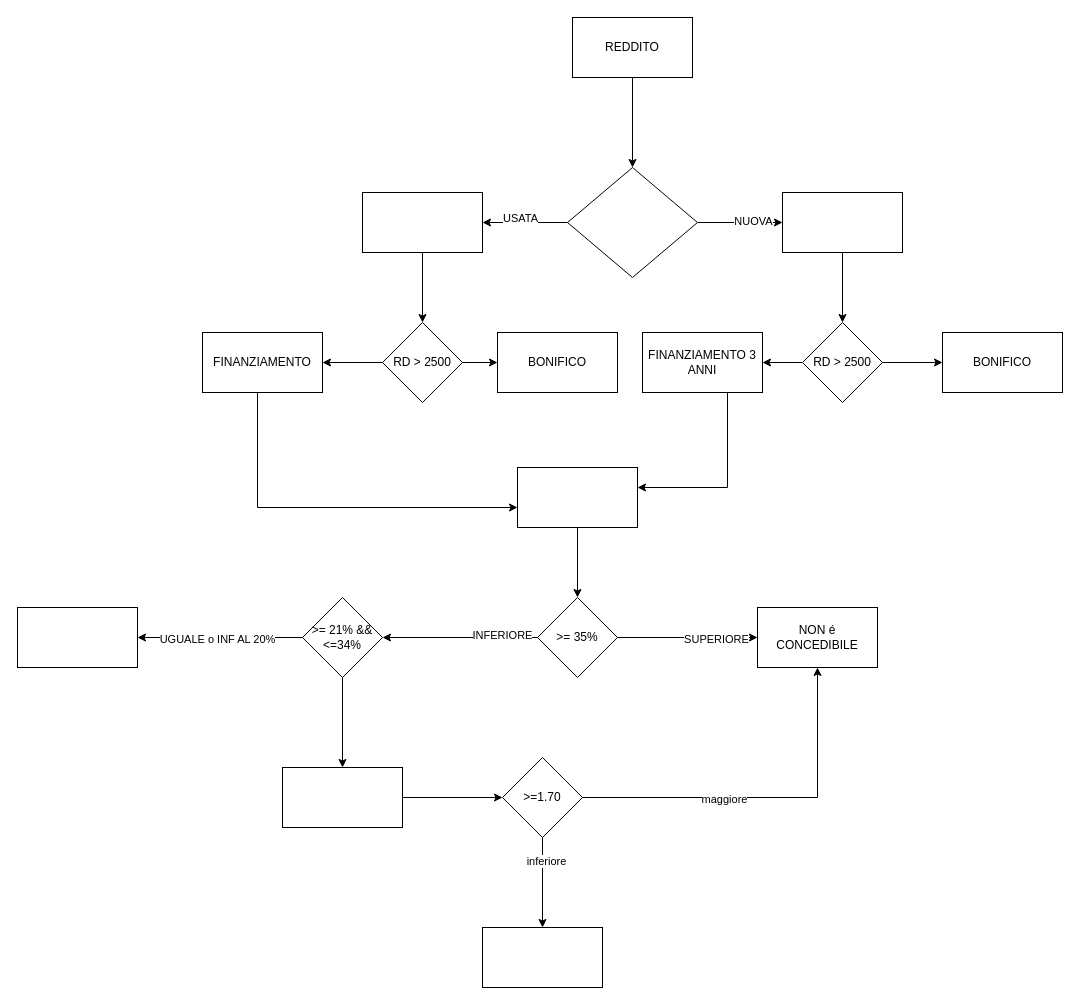
Some shapes in this 1080 by 1005 pixel diagram are drawn without their labels. Here are the shapes that lost their labels. From the top down, the box of each, then its label:
(566, 166, 698, 278): AUTO NUOVA O USATA
(516, 466, 638, 528): SOSTENIBILITA' = rata/redditto netto
(16, 606, 138, 668): lo concedo senza vedere il coefficiente
(282, 766, 402, 828): compreso vado a vedere il coefficiente di rischio
(482, 926, 602, 988): integro
